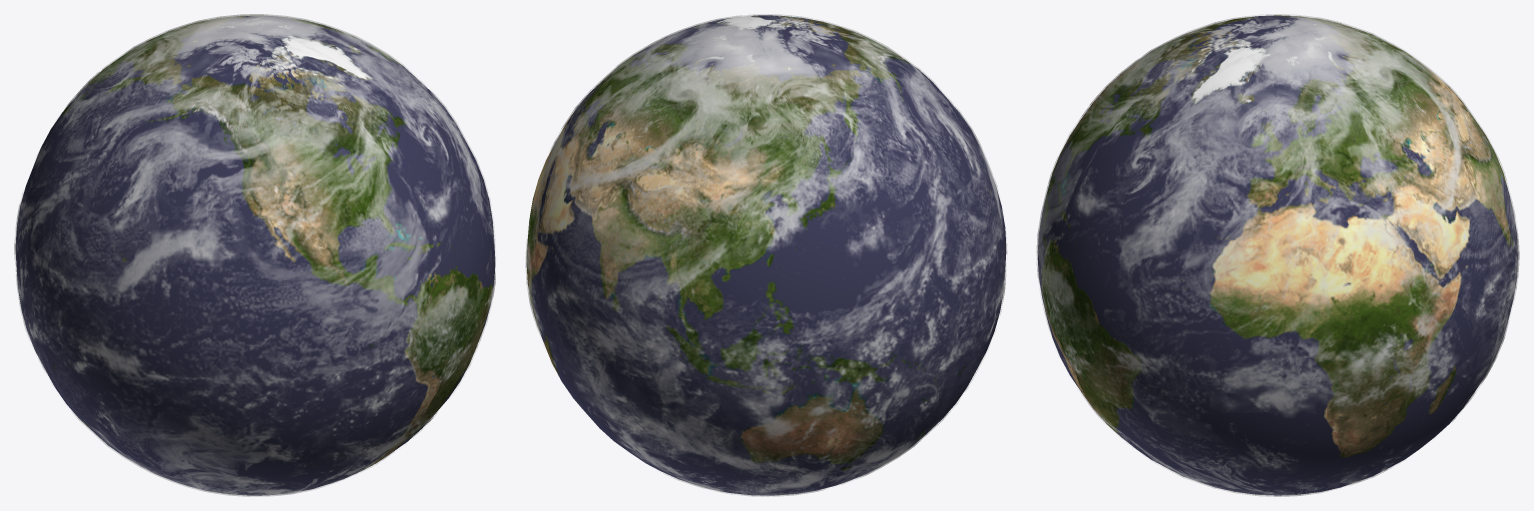
The model's file is earth(1)_optimized.glb.
3 renders of one model, left to right at view 1: azimuth 30°, elevation 25°; view 2: azimuth 150°, elevation 25°; view 3: azimuth 270°, elevation 25°, orthographic.
Visible parts, largest first — view 1: Earth_0, Clouds_1; view 2: Earth_0, Clouds_1; view 3: Earth_0, Clouds_1.
Boxes of the visible parts, x1,y1,x2,y2 form: Earth_0: [15, 15, 495, 495]; Clouds_1: [14, 14, 495, 496]; Earth_0: [526, 15, 1006, 495]; Clouds_1: [525, 14, 1007, 496]; Earth_0: [1037, 15, 1518, 495]; Clouds_1: [1036, 14, 1519, 496].
Bounding box in the file's own units: 1155 × 1155 × 1155.
2 materials, 2 textured.
